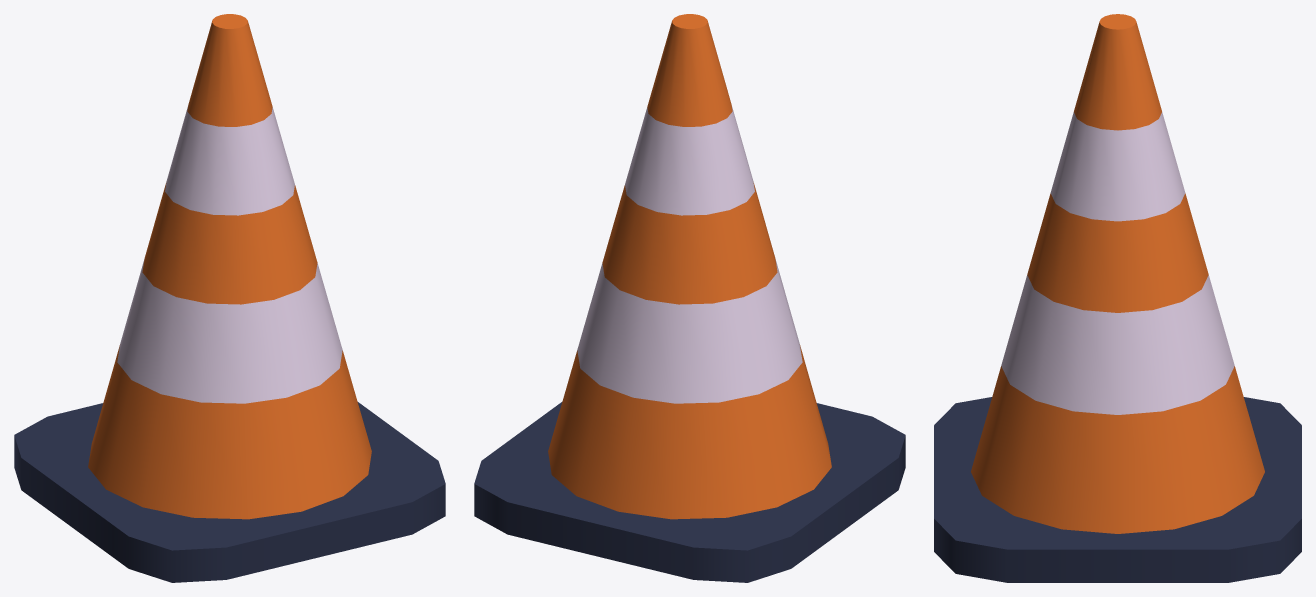
The model's file is TrafficCone.fbx.
3 views of the same model, side by side, from view 1: azimuth 30°, elevation 25°; view 2: azimuth 150°, elevation 25°; view 3: azimuth 270°, elevation 25° (orthographic). The views are drawn at different scales.
Visible parts, largest first — view 1: TrafficCone; view 2: TrafficCone; view 3: TrafficCone.
Boxes of the visible parts, x1,y1,x2,y2 form: TrafficCone: (14,14,445,582); TrafficCone: (474,14,905,582); TrafficCone: (934,14,1301,582).
Size of the model in its own units: 0.2 by 0.29 by 0.2.
